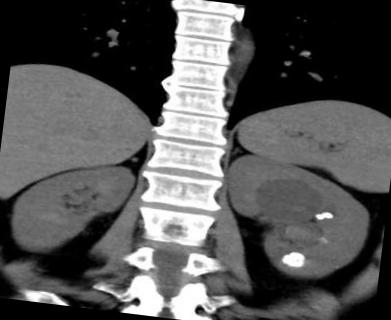Tas_Var: (282, 254, 308, 268), (288, 251, 307, 261), (320, 210, 334, 221), (313, 212, 324, 221)
